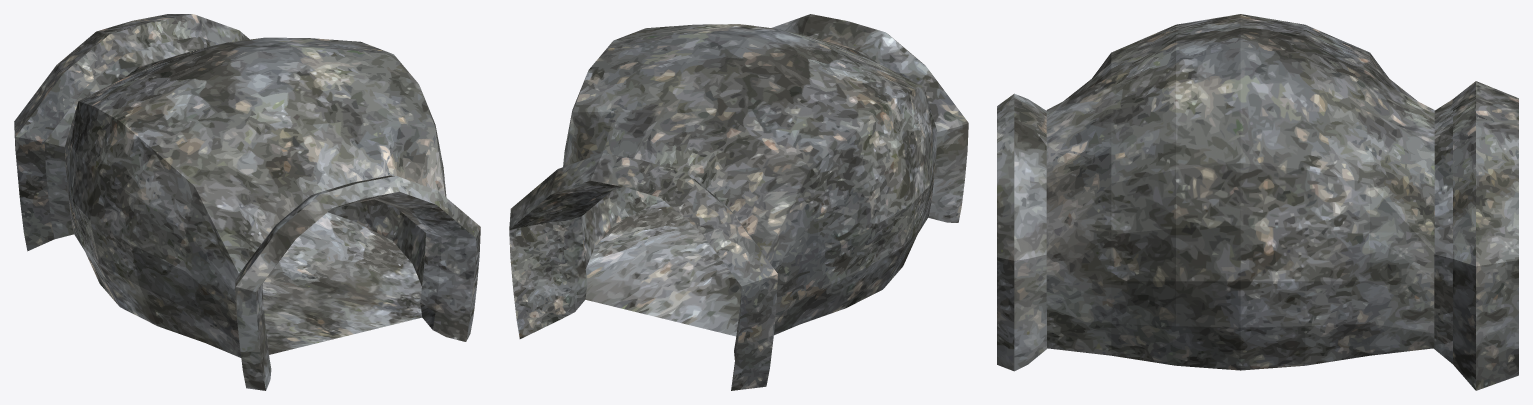
Rendered from obj_mountainTunnel.fbx.
The picture shows the model from 3 angles, left to right: view 1: azimuth 30°, elevation 25°; view 2: azimuth 150°, elevation 25°; view 3: azimuth 270°, elevation 25°; orthographic projection. The views are drawn at different scales.
Visible parts, largest first — view 1: obj_mountainTunnel; view 2: obj_mountainTunnel; view 3: obj_mountainTunnel.
Boxes of the visible parts, left/top/right/bottom form: obj_mountainTunnel: left=14, top=14, right=480, bottom=390; obj_mountainTunnel: left=509, top=14, right=968, bottom=390; obj_mountainTunnel: left=997, top=14, right=1518, bottom=390.
Size of the model in its own units: 78.61 by 55.65 by 95.56.
1 material, 1 textured.
